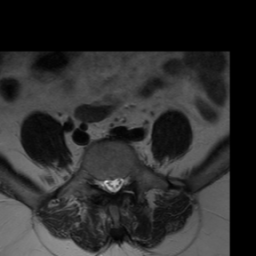CCS_severe_stenosis: (109, 172, 116, 199)
LFS_normal: (124, 166, 132, 192)
LLS_normal: (116, 169, 124, 197)
RFS_normal: (93, 169, 101, 194)
RLS_normal: (101, 170, 109, 197)
